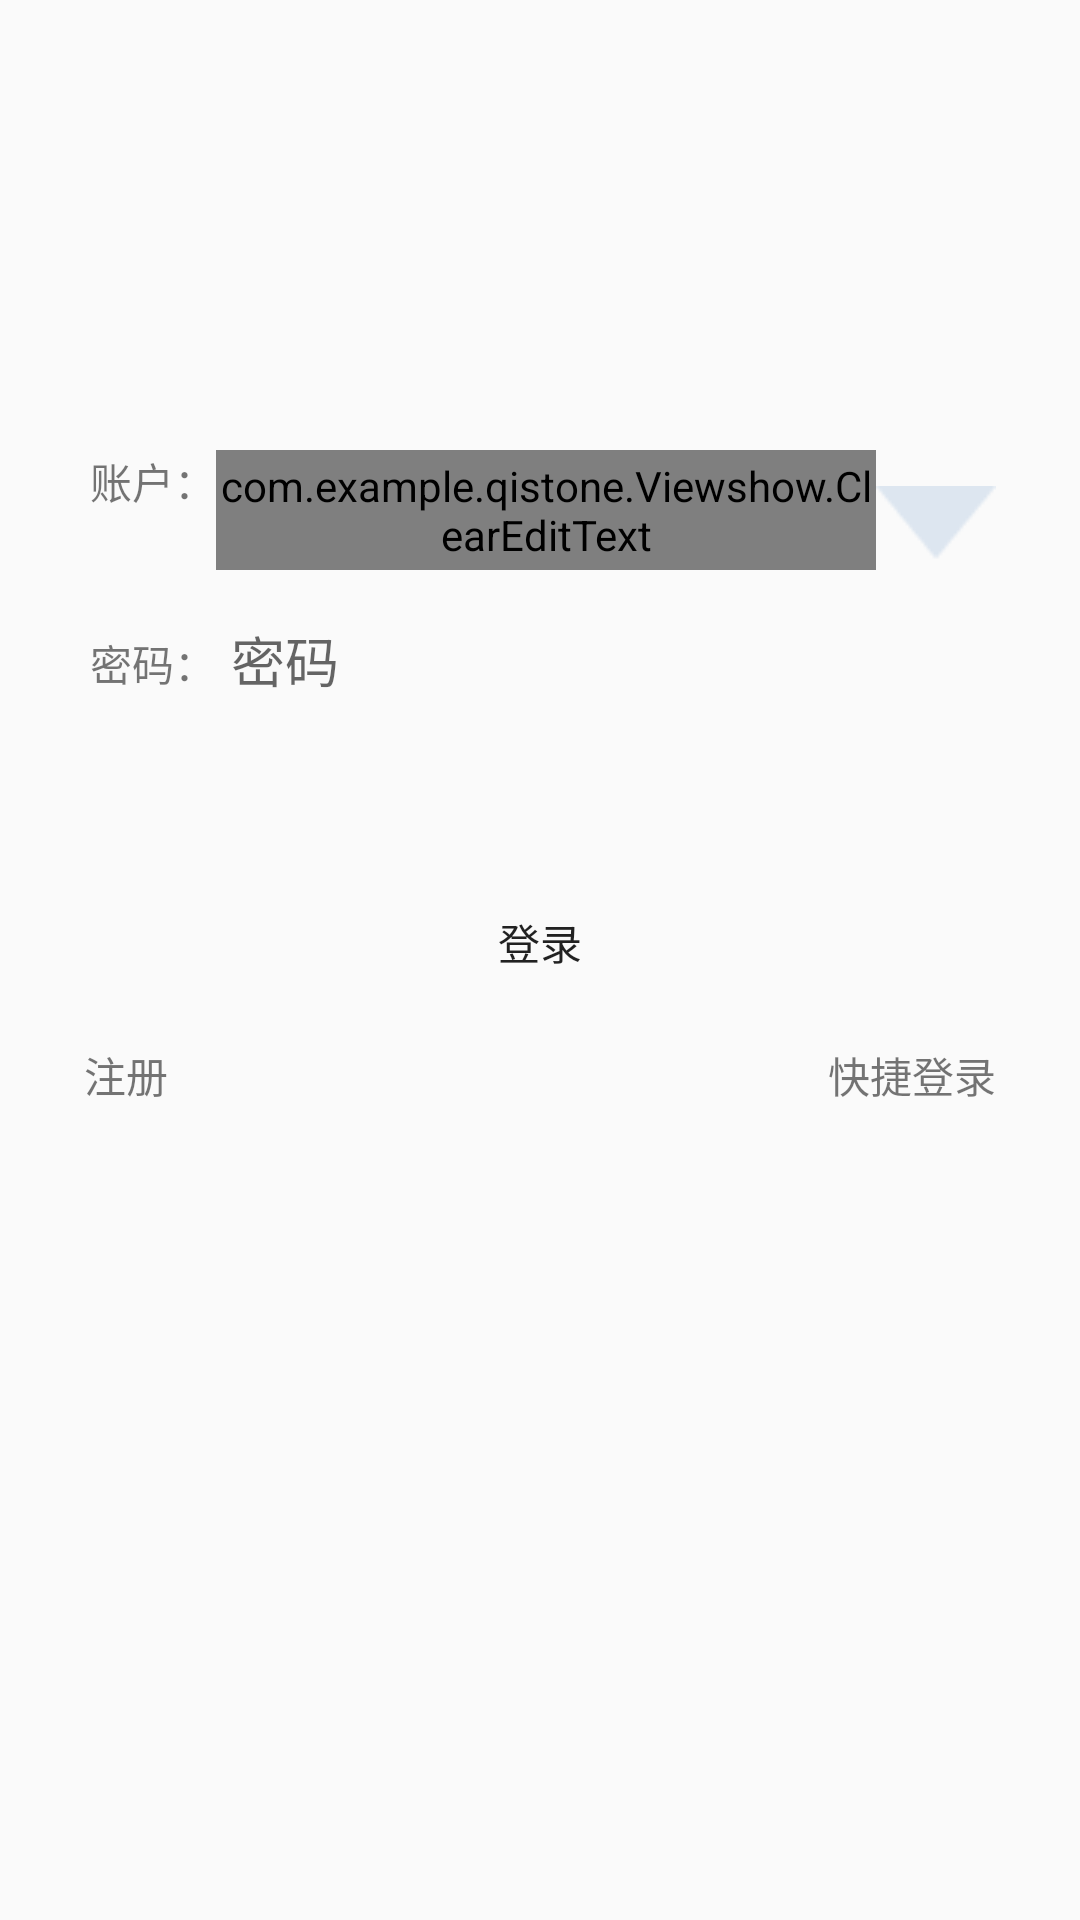

Icons on this 1080 x 1920 Android screen, each with its box as (x1, y1, x2, y2):
down: (879, 486, 993, 555)
